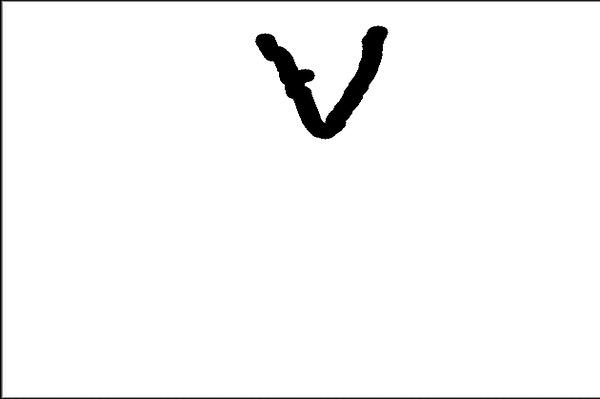V: (248, 23, 394, 145)
